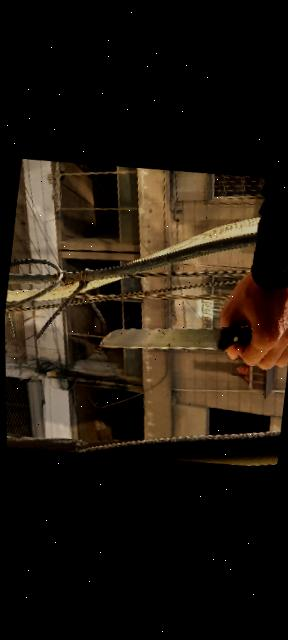long knife: (87, 307, 288, 375)
